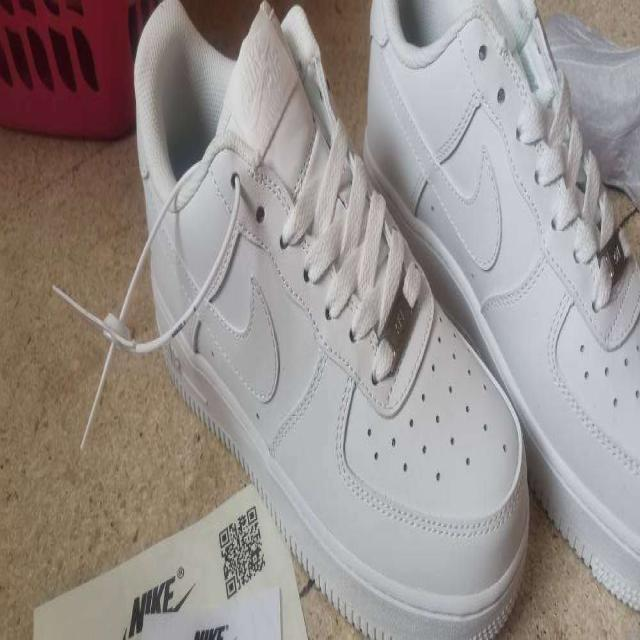nike original air force: (110, 0, 532, 640), (357, 0, 640, 621)
